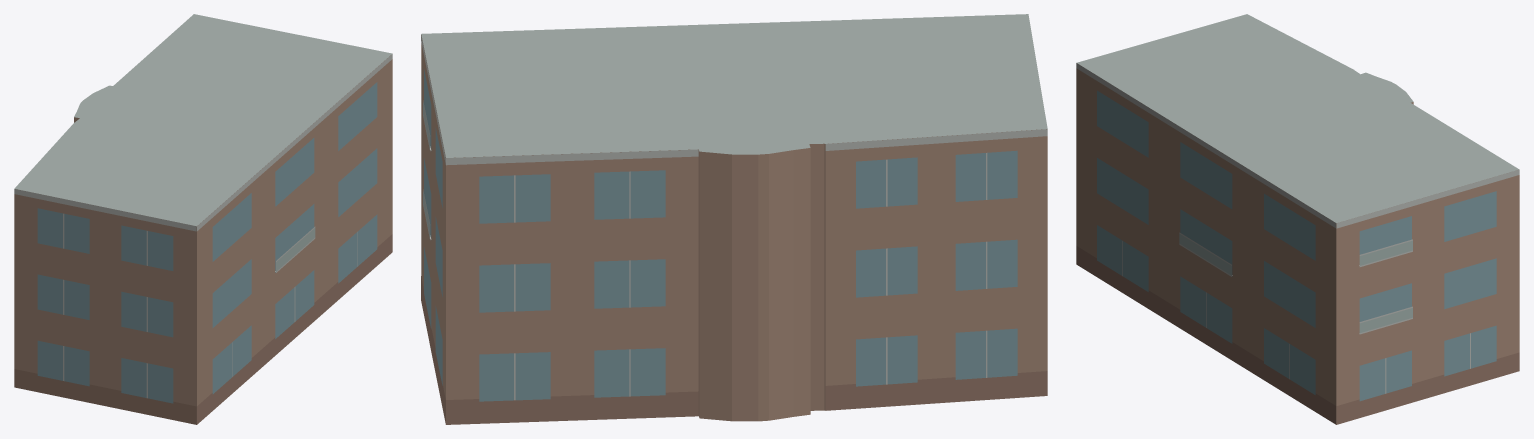
Rendered from survey-upis-32536354.glb.
The picture shows the model from 3 angles, left to right: view 1: azimuth 30°, elevation 25°; view 2: azimuth 150°, elevation 25°; view 3: azimuth 270°, elevation 25°; orthographic projection. The views are drawn at different scales.
Visible parts, largest first — view 1: survey-upis-32536354.tmp; view 2: survey-upis-32536354.tmp; view 3: survey-upis-32536354.tmp.
Boxes of the visible parts, box(x1,y1,x2,y2) form: survey-upis-32536354.tmp: box(14, 14, 392, 424); survey-upis-32536354.tmp: box(421, 14, 1047, 424); survey-upis-32536354.tmp: box(1076, 14, 1519, 424).
Size of the model in its own units: 20.26 by 9.1 by 18.13.
